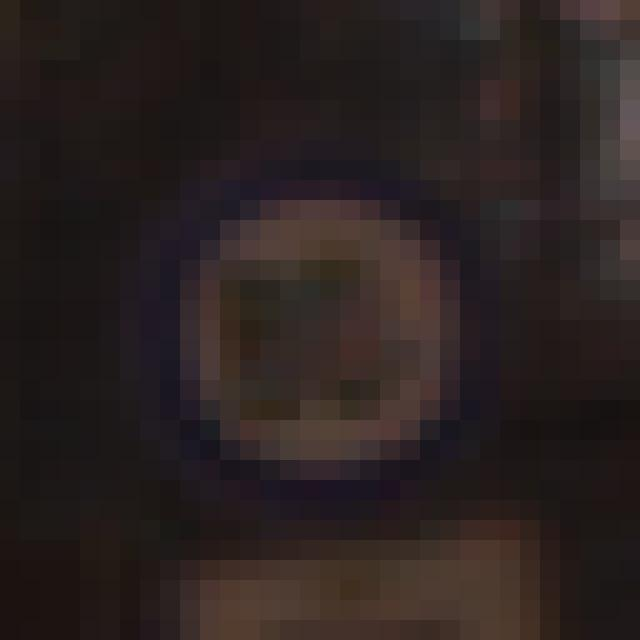SPEED-LIMIT-80: (124, 185, 503, 487)
